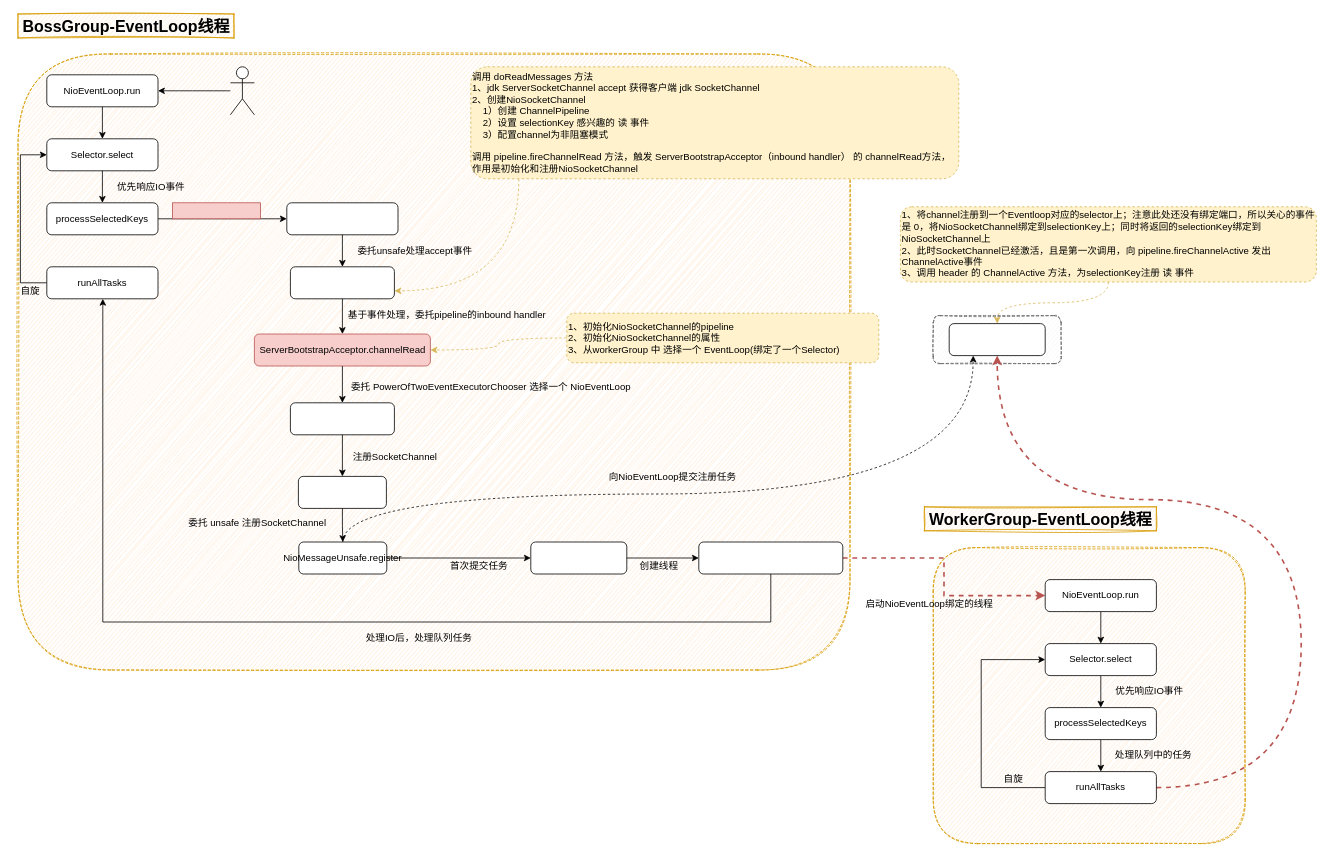
This 1330x858 diagram has some shape labels left out. The centre of each missing label's shape, as x and y in pixels:
NioEventLoop.execute: pixel 578 557
NioEventLoop.register: pixel 342 492
NioEventLoopGroup.next: pixel 342 418
processSelectedKey: pixel 342 218
register0: pixel 996 339
ThreadPerTaskExecutor .execute: pixel 770 557
unsafe.read: pixel 342 282
有accept事件触发: pixel 216 210
